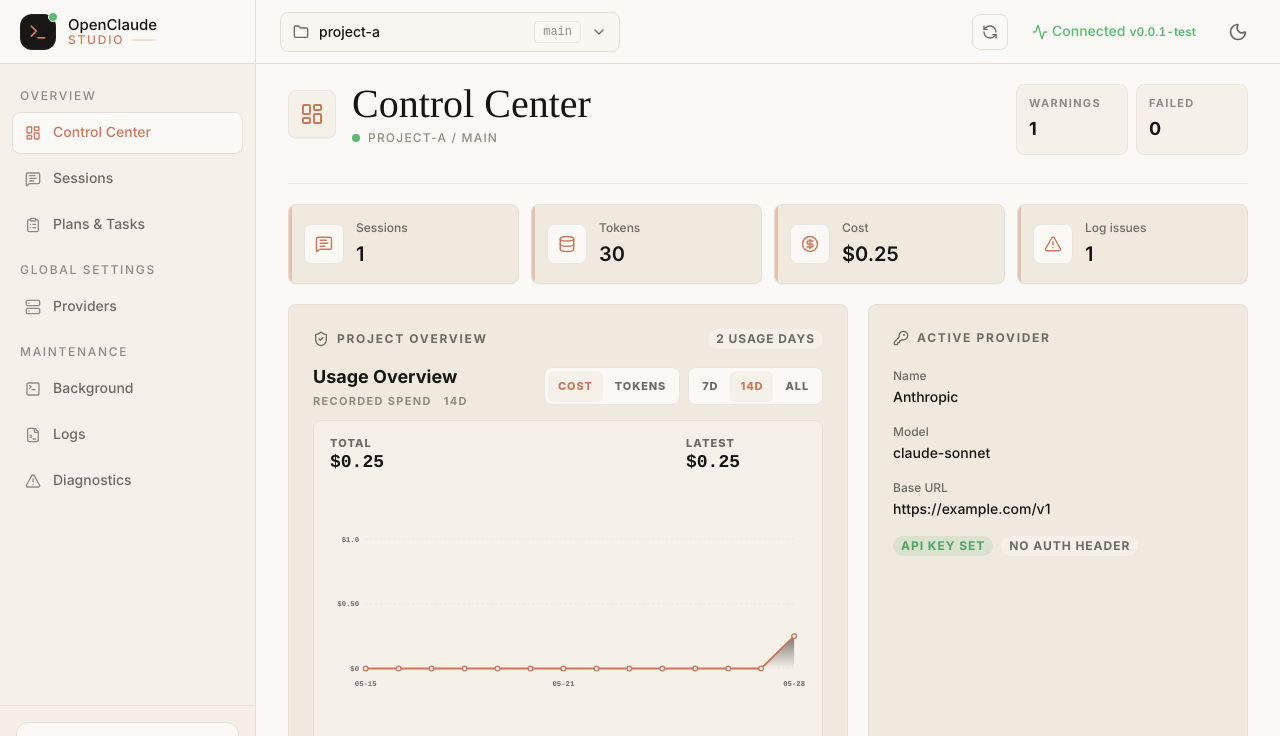
Test: App › shows an accessible plans and tasks loading indicator while lists are pending
The image size is (1280, 736).
Expected: the button "project-a main" is shown, [280, 12, 620, 52]
Click the link "Plans & Tasks": (85, 224) [25, 216, 145, 233]
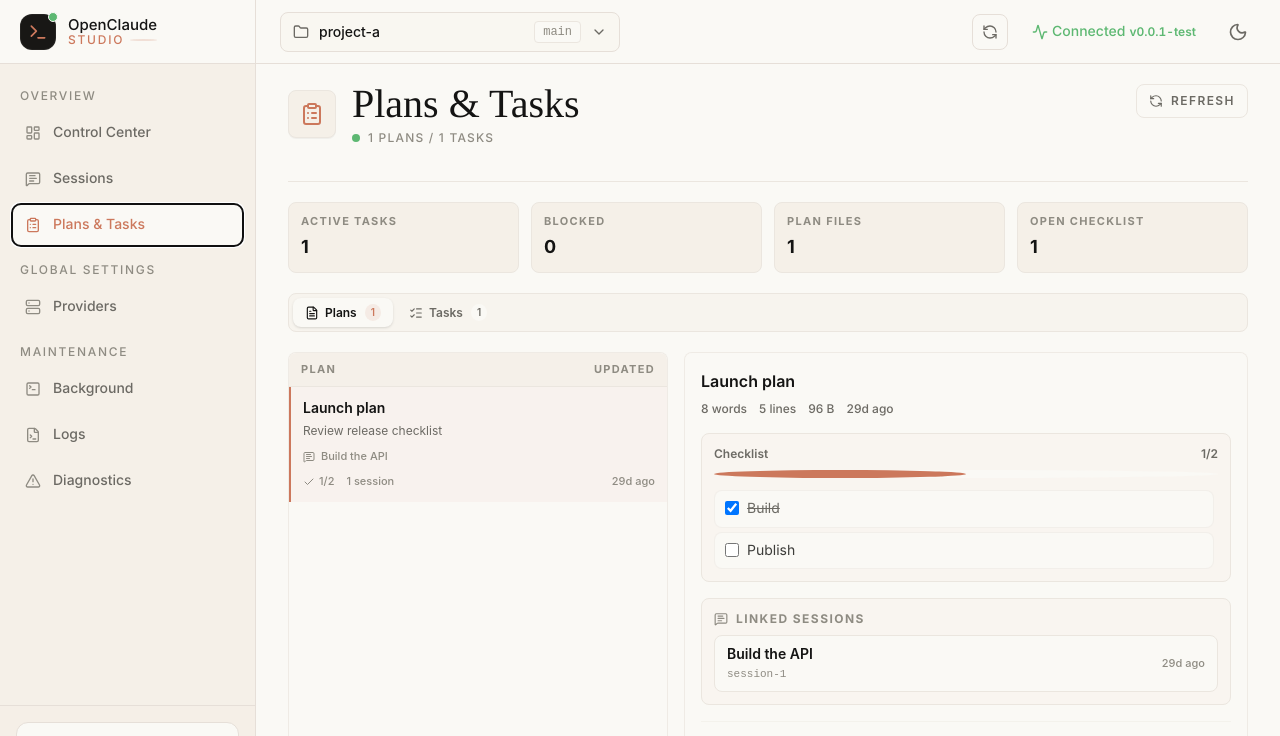
Result: the heading "Plans & Tasks" is shown at [352, 84, 580, 124]
